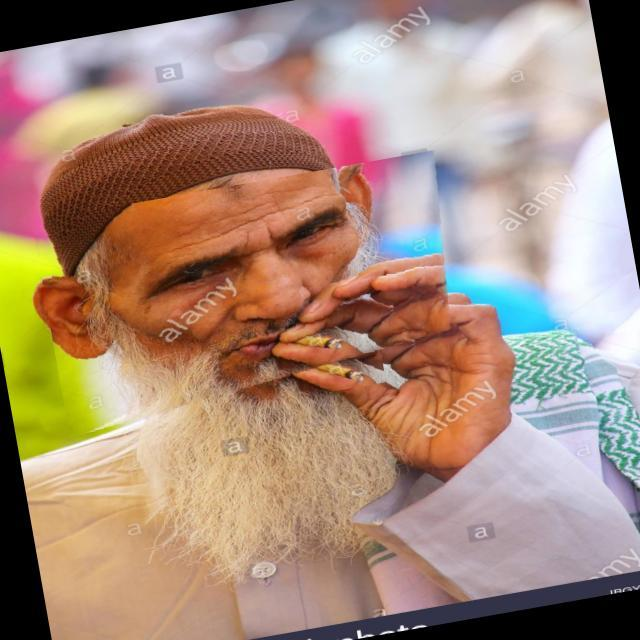cigarette: (297, 337, 387, 396)
